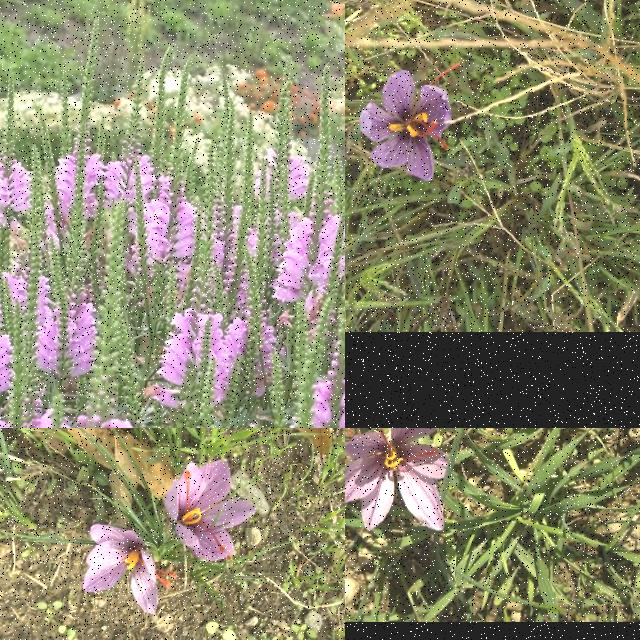flower: (359, 64, 461, 182), (345, 428, 449, 531), (167, 458, 257, 562), (84, 524, 176, 616)
